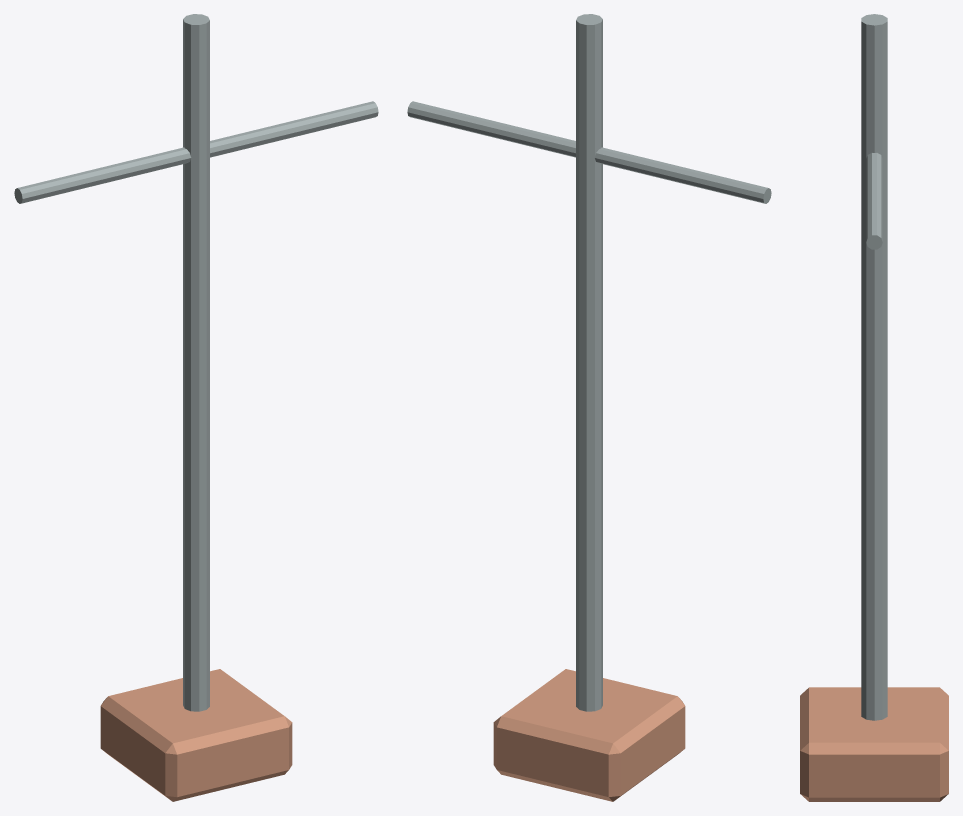
The model's file is antenna.glb.
3 views of the same model, side by side, from view 1: azimuth 30°, elevation 25°; view 2: azimuth 150°, elevation 25°; view 3: azimuth 270°, elevation 25° (orthographic).
Visible parts, largest first — view 1: antenna; view 2: antenna; view 3: antenna.
Boxes of the visible parts, x1,y1,x2,y2 form: antenna: (14, 14, 378, 801); antenna: (407, 14, 771, 801); antenna: (800, 14, 948, 801).
Size of the model in its own units: 0.7 by 1.4 by 0.25.
